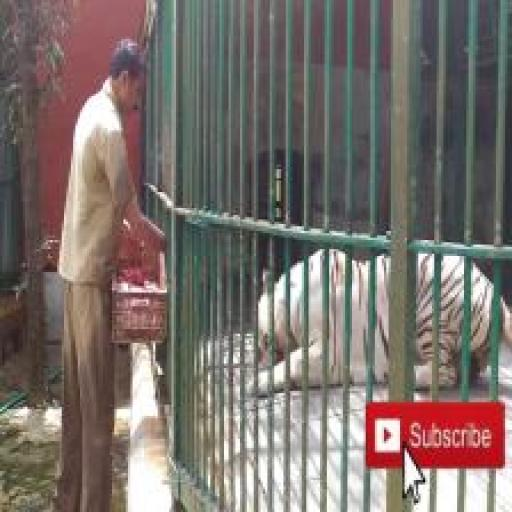Tiger: (233, 181, 512, 498)
